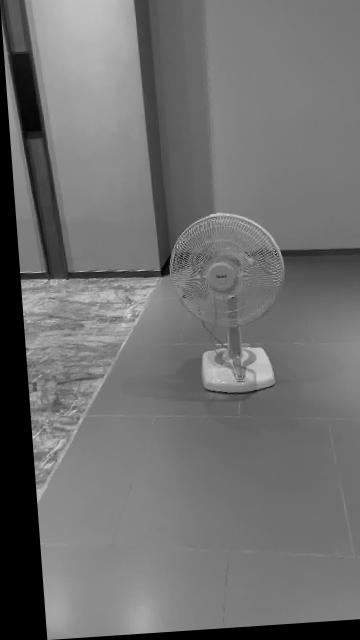Fan: (165, 216, 280, 397)
